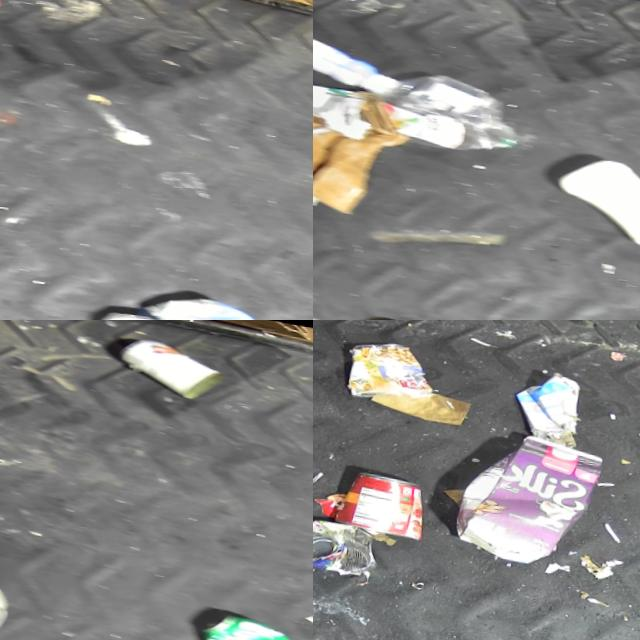can: (116, 324, 229, 396), (336, 463, 432, 537), (346, 331, 439, 407), (197, 597, 313, 640), (313, 511, 384, 578)
non_white_jug: (450, 417, 606, 566)
